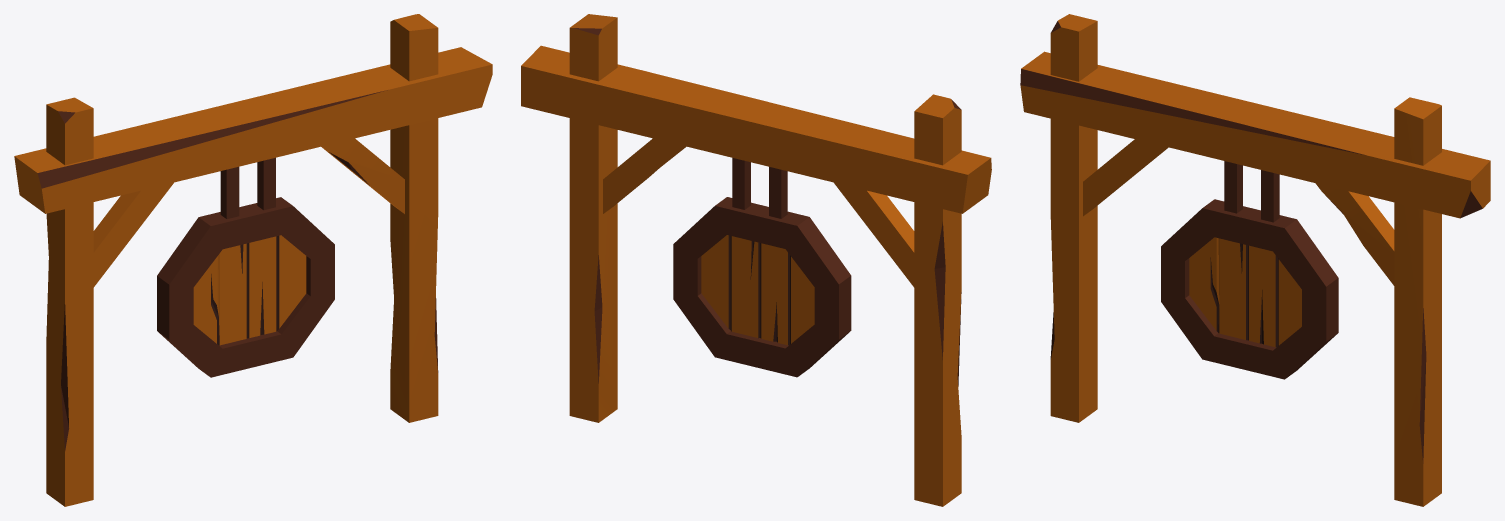
Rendered from Sign_2.fbx.
The picture shows the model from 3 angles, left to right: view 1: azimuth 30°, elevation 25°; view 2: azimuth 150°, elevation 25°; view 3: azimuth 330°, elevation 25°; orthographic projection.
Parts seen in each view (by area): view 1: Sign_2; view 2: Sign_2; view 3: Sign_2.
Part boxes in pixels (x1,y1,x2,y2): Sign_2: (14,14,492,506); Sign_2: (521,14,991,506); Sign_2: (1020,14,1490,506).
Bounding box in the file's own units: 102 × 84.25 × 10.01.
